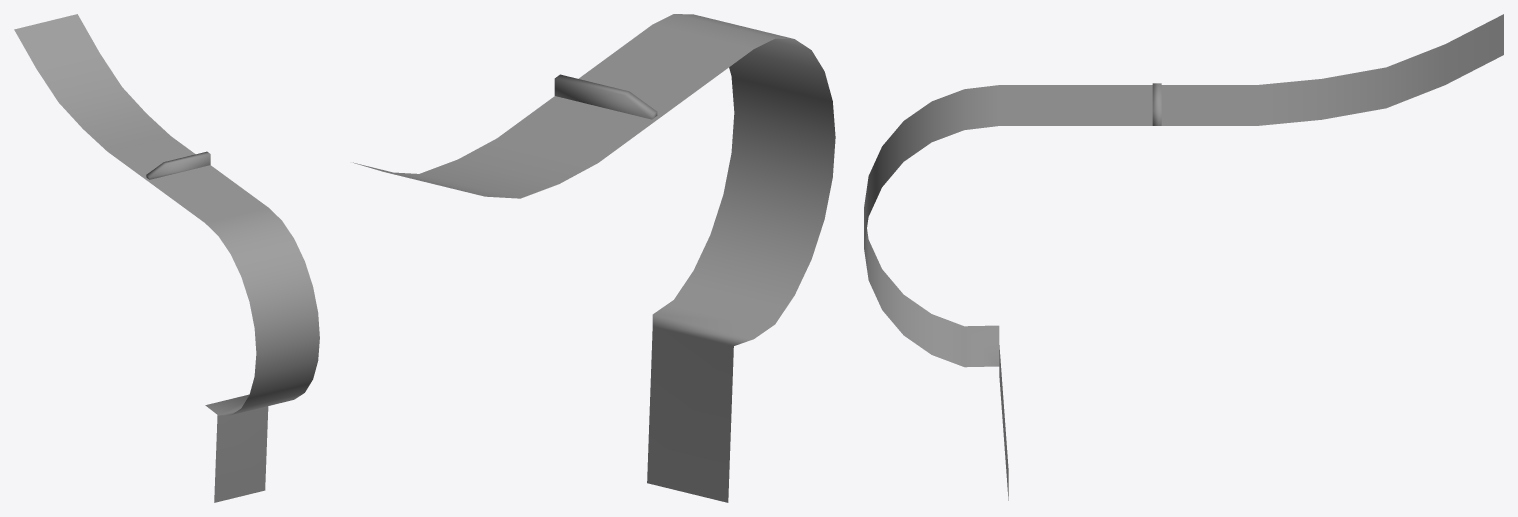
Rendered from SW_ENV_Escalator_BottomSteps_Connector.fbx.
3 views of the same model, side by side, from view 1: azimuth 30°, elevation 25°; view 2: azimuth 150°, elevation 25°; view 3: azimuth 270°, elevation 25° (orthographic). The views are drawn at different scales.
Parts seen in each view (by area): view 1: SW_ENV_Escalator_BottomSteps_Connector; view 2: SW_ENV_Escalator_BottomSteps_Connector; view 3: SW_ENV_Escalator_BottomSteps_Connector.
Part boxes in pixels (x1,y1,x2,y2): SW_ENV_Escalator_BottomSteps_Connector: [14, 14, 319, 502]; SW_ENV_Escalator_BottomSteps_Connector: [353, 14, 835, 502]; SW_ENV_Escalator_BottomSteps_Connector: [864, 14, 1503, 500].
Size of the model in its own units: 0.2255 by 1.15 by 1.49.
